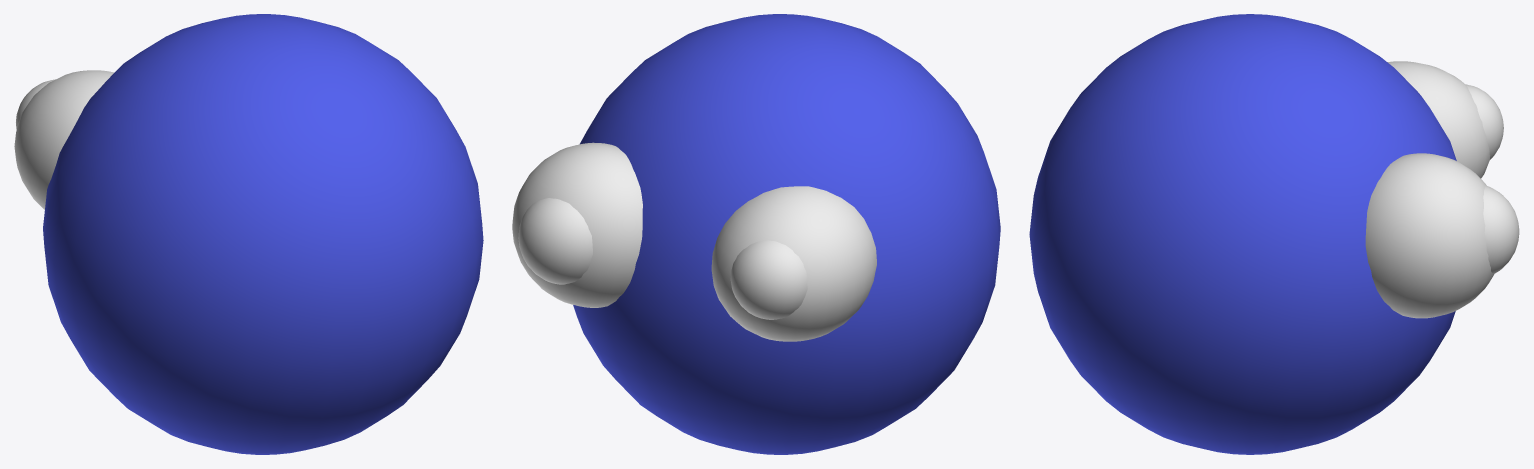
The picture shows the model from 3 angles, left to right: view 1: azimuth 30°, elevation 25°; view 2: azimuth 150°, elevation 25°; view 3: azimuth 270°, elevation 25°; orthographic projection.
Parts seen in each view (by area): view 1: Sphere, Sphere.001; view 2: Sphere, Sphere.001, Sphere.002, Sphere.003, Sphere.004; view 3: Sphere, Sphere.002, Sphere.001, Sphere.003, Sphere.004.
Part boxes in pixels (box(x1,y1,x2,y2)): Sphere: box(43, 14, 483, 454); Sphere.001: box(14, 70, 114, 209); Sphere: box(573, 14, 1000, 454); Sphere.001: box(711, 186, 876, 341); Sphere.002: box(512, 142, 642, 307); Sphere.003: box(518, 198, 592, 284); Sphere.004: box(730, 240, 807, 319); Sphere: box(1029, 14, 1456, 454); Sphere.002: box(1365, 153, 1494, 318); Sphere.001: box(1387, 61, 1490, 178); Sphere.003: box(1483, 186, 1519, 273); Sphere.004: box(1466, 84, 1503, 159).
Bounding box in the file's own units: 2 × 2 × 2.22.
